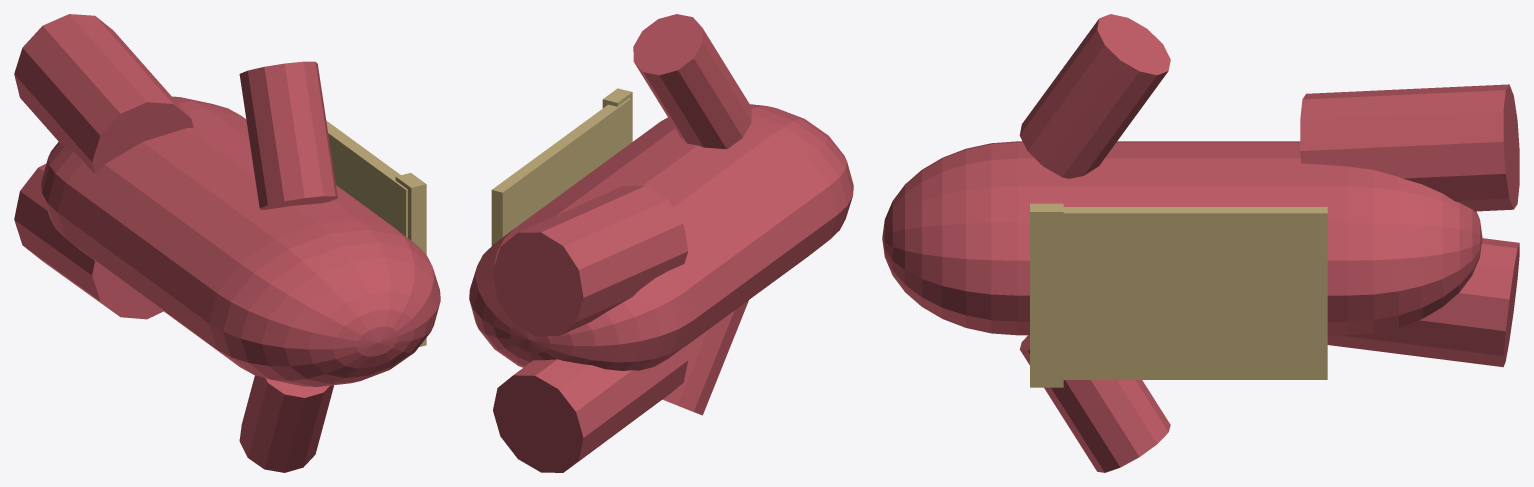
3 views of the same model, side by side, from view 1: azimuth 30°, elevation 25°; view 2: azimuth 150°, elevation 25°; view 3: azimuth 270°, elevation 25° (orthographic). The views are drawn at different scales.
Parts seen in each view (by area): view 1: geometry_0; view 2: geometry_0; view 3: geometry_0.
Part boxes in pixels (x1=…): geometry_0: x1=14, y1=14, x2=440, y2=472; geometry_0: x1=469, y1=14, x2=853, y2=472; geometry_0: x1=882, y1=14, x2=1519, y2=472.
Bounding box in the file's own units: 0.29 × 0.508 × 0.6584.
